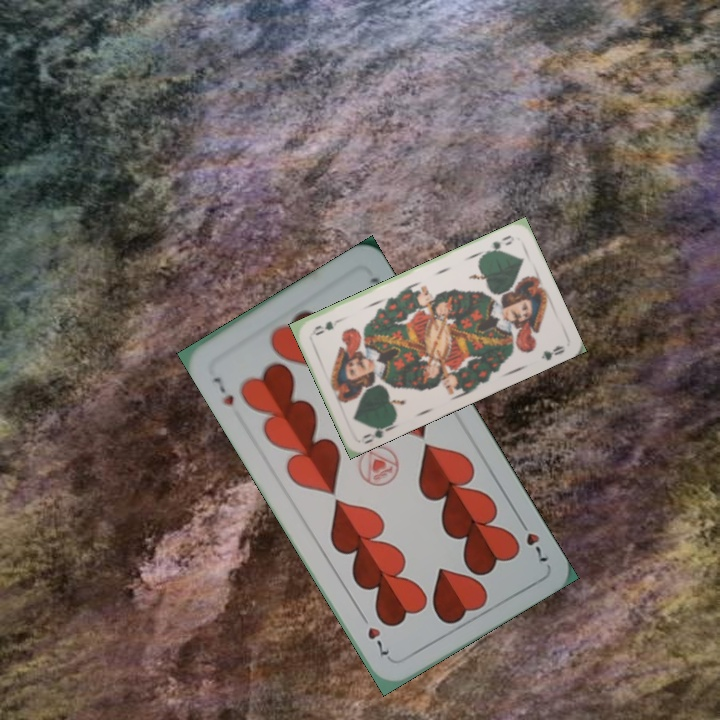GO: (357, 418, 397, 447), (480, 231, 514, 257)
H7: (514, 514, 552, 565), (209, 372, 237, 408)
